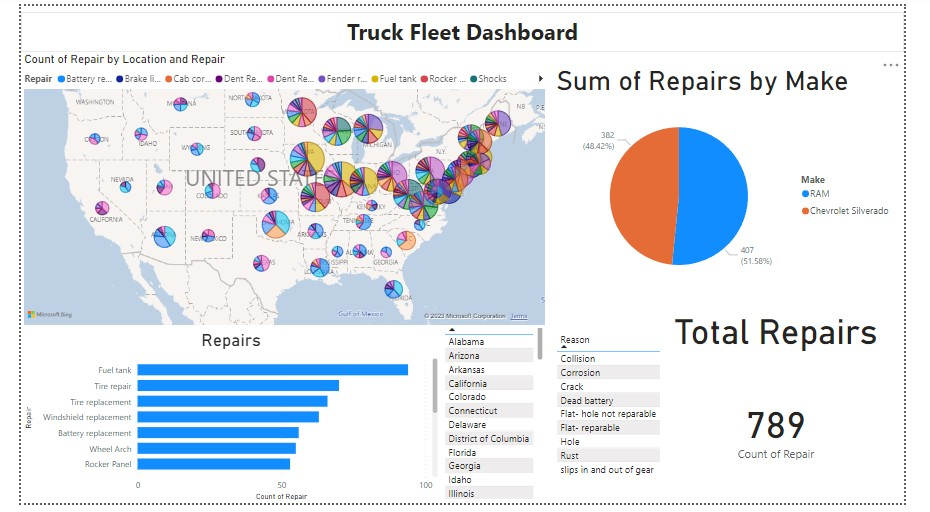

The page's visual inventory and layout, read from the dashboard file:
{"tool":"powerbi","page":{"name":"Page 1","canvas":[1280,720],"ordinal":0},"visuals":[{"type":"pieChart","title":"Sum of Repairs by Make","fields":{"Category":["repairs_by_make.Make"],"Y":["Sum(repairs_by_make.Frequency)"]},"box":[771.7,84.6,501.5,338.2],"z":1000},{"type":"tableEx","fields":{"Values":["states.State"]},"box":[609.4,444.2,152.6,276],"z":1003},{"type":"map","fields":{"Category":["CLEAN_FleetMaintenanceRecords_modified.Location"],"Series":["CLEAN_FleetMaintenanceRecords_modified.Repair"],"Size":["CountNonNull(CLEAN_FleetMaintenanceRecords_modified.Repair)"]},"box":[0,67.1,763.9,400.4],"z":1004},{"type":"card","title":"Total Repairs","fields":{"Values":["CountNonNull(CLEAN_FleetMaintenanceRecords_modified.Repair)"]},"box":[912.6,444.2,361.5,276],"z":1005},{"type":"barChart","title":"Repairs","fields":{"Category":["CLEAN_FleetMaintenanceRecords_modified.Repair"],"Y":["CountNonNull(CLEAN_FleetMaintenanceRecords_modified.Repair)"]},"box":[0,467.5,609.4,252.7],"z":1006},{"type":"tableEx","fields":{"Values":["CLEAN_FleetMaintenanceRecords_modified.Reason"]},"box":[771.7,444.2,170.1,276],"z":1007},{"type":"textbox","box":[0,8.7,1280,58.3],"z":1008}]}

Visuals, with their boxes in screenshot pixels (x1, y1, x2, y2), scaled from the page's 1280x720 canvas onto the 930x512 screenshot:
"Sum of Repairs by Make" pieChart: {"x1": 561, "y1": 60, "x2": 925, "y2": 301}
tableEx - states.State: {"x1": 443, "y1": 316, "x2": 554, "y2": 511}
map - CLEAN_FleetMaintenanceRecords_modified.Location x CLEAN_FleetMaintenanceRecords_modified.Repair: {"x1": 0, "y1": 48, "x2": 555, "y2": 332}
"Total Repairs" card: {"x1": 663, "y1": 316, "x2": 926, "y2": 511}
"Repairs" barChart: {"x1": 0, "y1": 332, "x2": 443, "y2": 511}
tableEx - CLEAN_FleetMaintenanceRecords_modified.Reason: {"x1": 561, "y1": 316, "x2": 684, "y2": 511}
textbox: {"x1": 0, "y1": 6, "x2": 929, "y2": 48}
